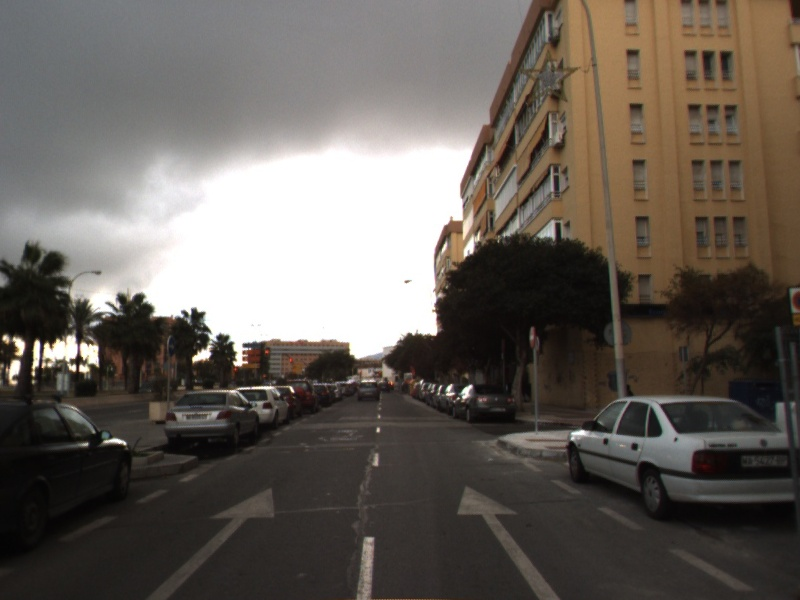STRAIGHT: (146, 484, 277, 600), (456, 481, 560, 600)
